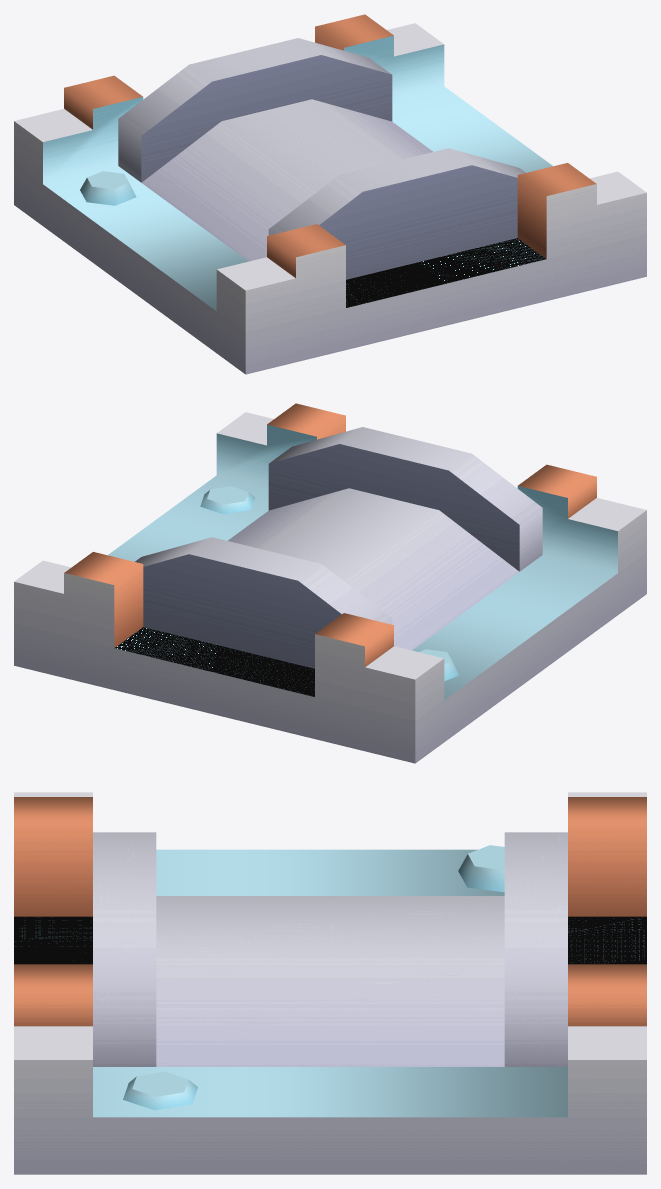
Rendered from tower-defense-kit--snow-tile-river-bridge.glb.
The picture shows the model from 3 angles, top to bottom: view 1: azimuth 30°, elevation 25°; view 2: azimuth 150°, elevation 25°; view 3: azimuth 270°, elevation 25°; orthographic projection. The views are drawn at different scales.
Parts seen in each view (by area): view 1: snow-tile-river-bridge; view 2: snow-tile-river-bridge; view 3: snow-tile-river-bridge.
Boxes of the visible parts, x1,y1,x2,y2 form: snow-tile-river-bridge: [14, 14, 646, 374]; snow-tile-river-bridge: [14, 403, 646, 763]; snow-tile-river-bridge: [14, 792, 646, 1174].
Size of the model in its own units: 1 by 0.3 by 1.
Materials: 1 (1 with a texture image).
